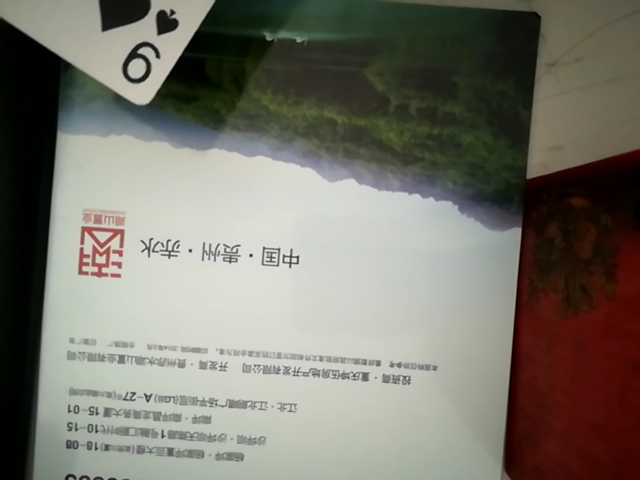ht 9: (0, 0, 474, 132)
